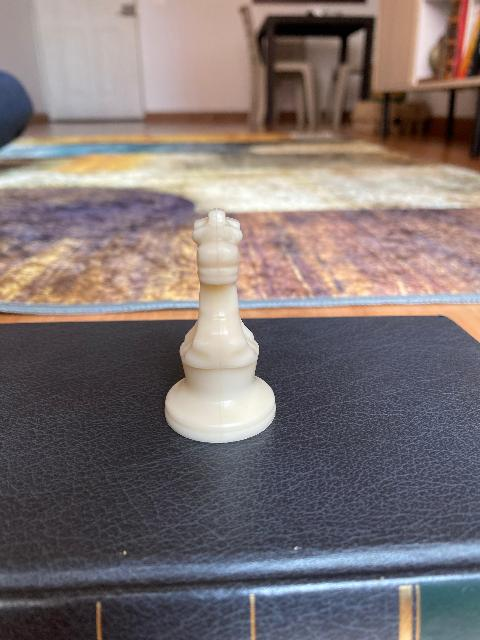white-knight: (163, 208, 276, 444)
